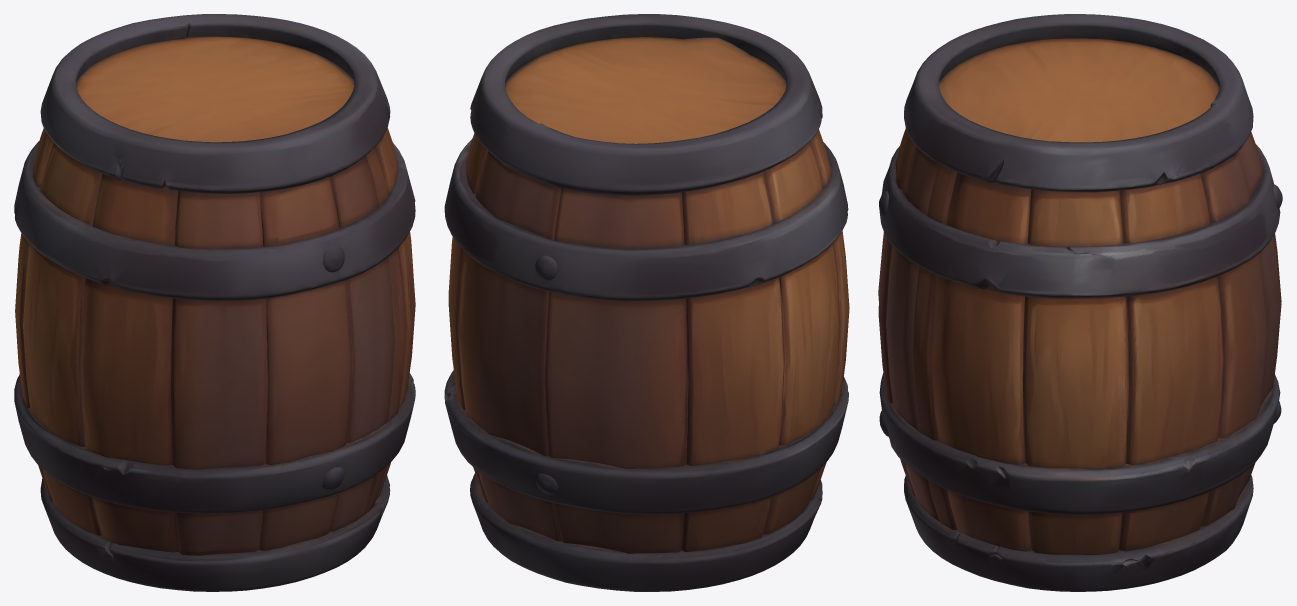
The model's file is 10-barrel.glb.
The picture shows the model from 3 angles, left to right: view 1: azimuth 30°, elevation 25°; view 2: azimuth 150°, elevation 25°; view 3: azimuth 270°, elevation 25°; orthographic projection.
Parts seen in each view (by area): view 1: tripo_node_aa3b23d7-c81f-4c46-a802-5ac9b8f258ba; view 2: tripo_node_aa3b23d7-c81f-4c46-a802-5ac9b8f258ba; view 3: tripo_node_aa3b23d7-c81f-4c46-a802-5ac9b8f258ba.
Boxes of the visible parts, x1,y1,x2,y2 form: tripo_node_aa3b23d7-c81f-4c46-a802-5ac9b8f258ba: (14, 14, 415, 591); tripo_node_aa3b23d7-c81f-4c46-a802-5ac9b8f258ba: (444, 14, 849, 591); tripo_node_aa3b23d7-c81f-4c46-a802-5ac9b8f258ba: (878, 14, 1282, 591).
Bounding box in the file's own units: 0.8188 × 0.9995 × 0.8257.
1 material, 1 textured.
